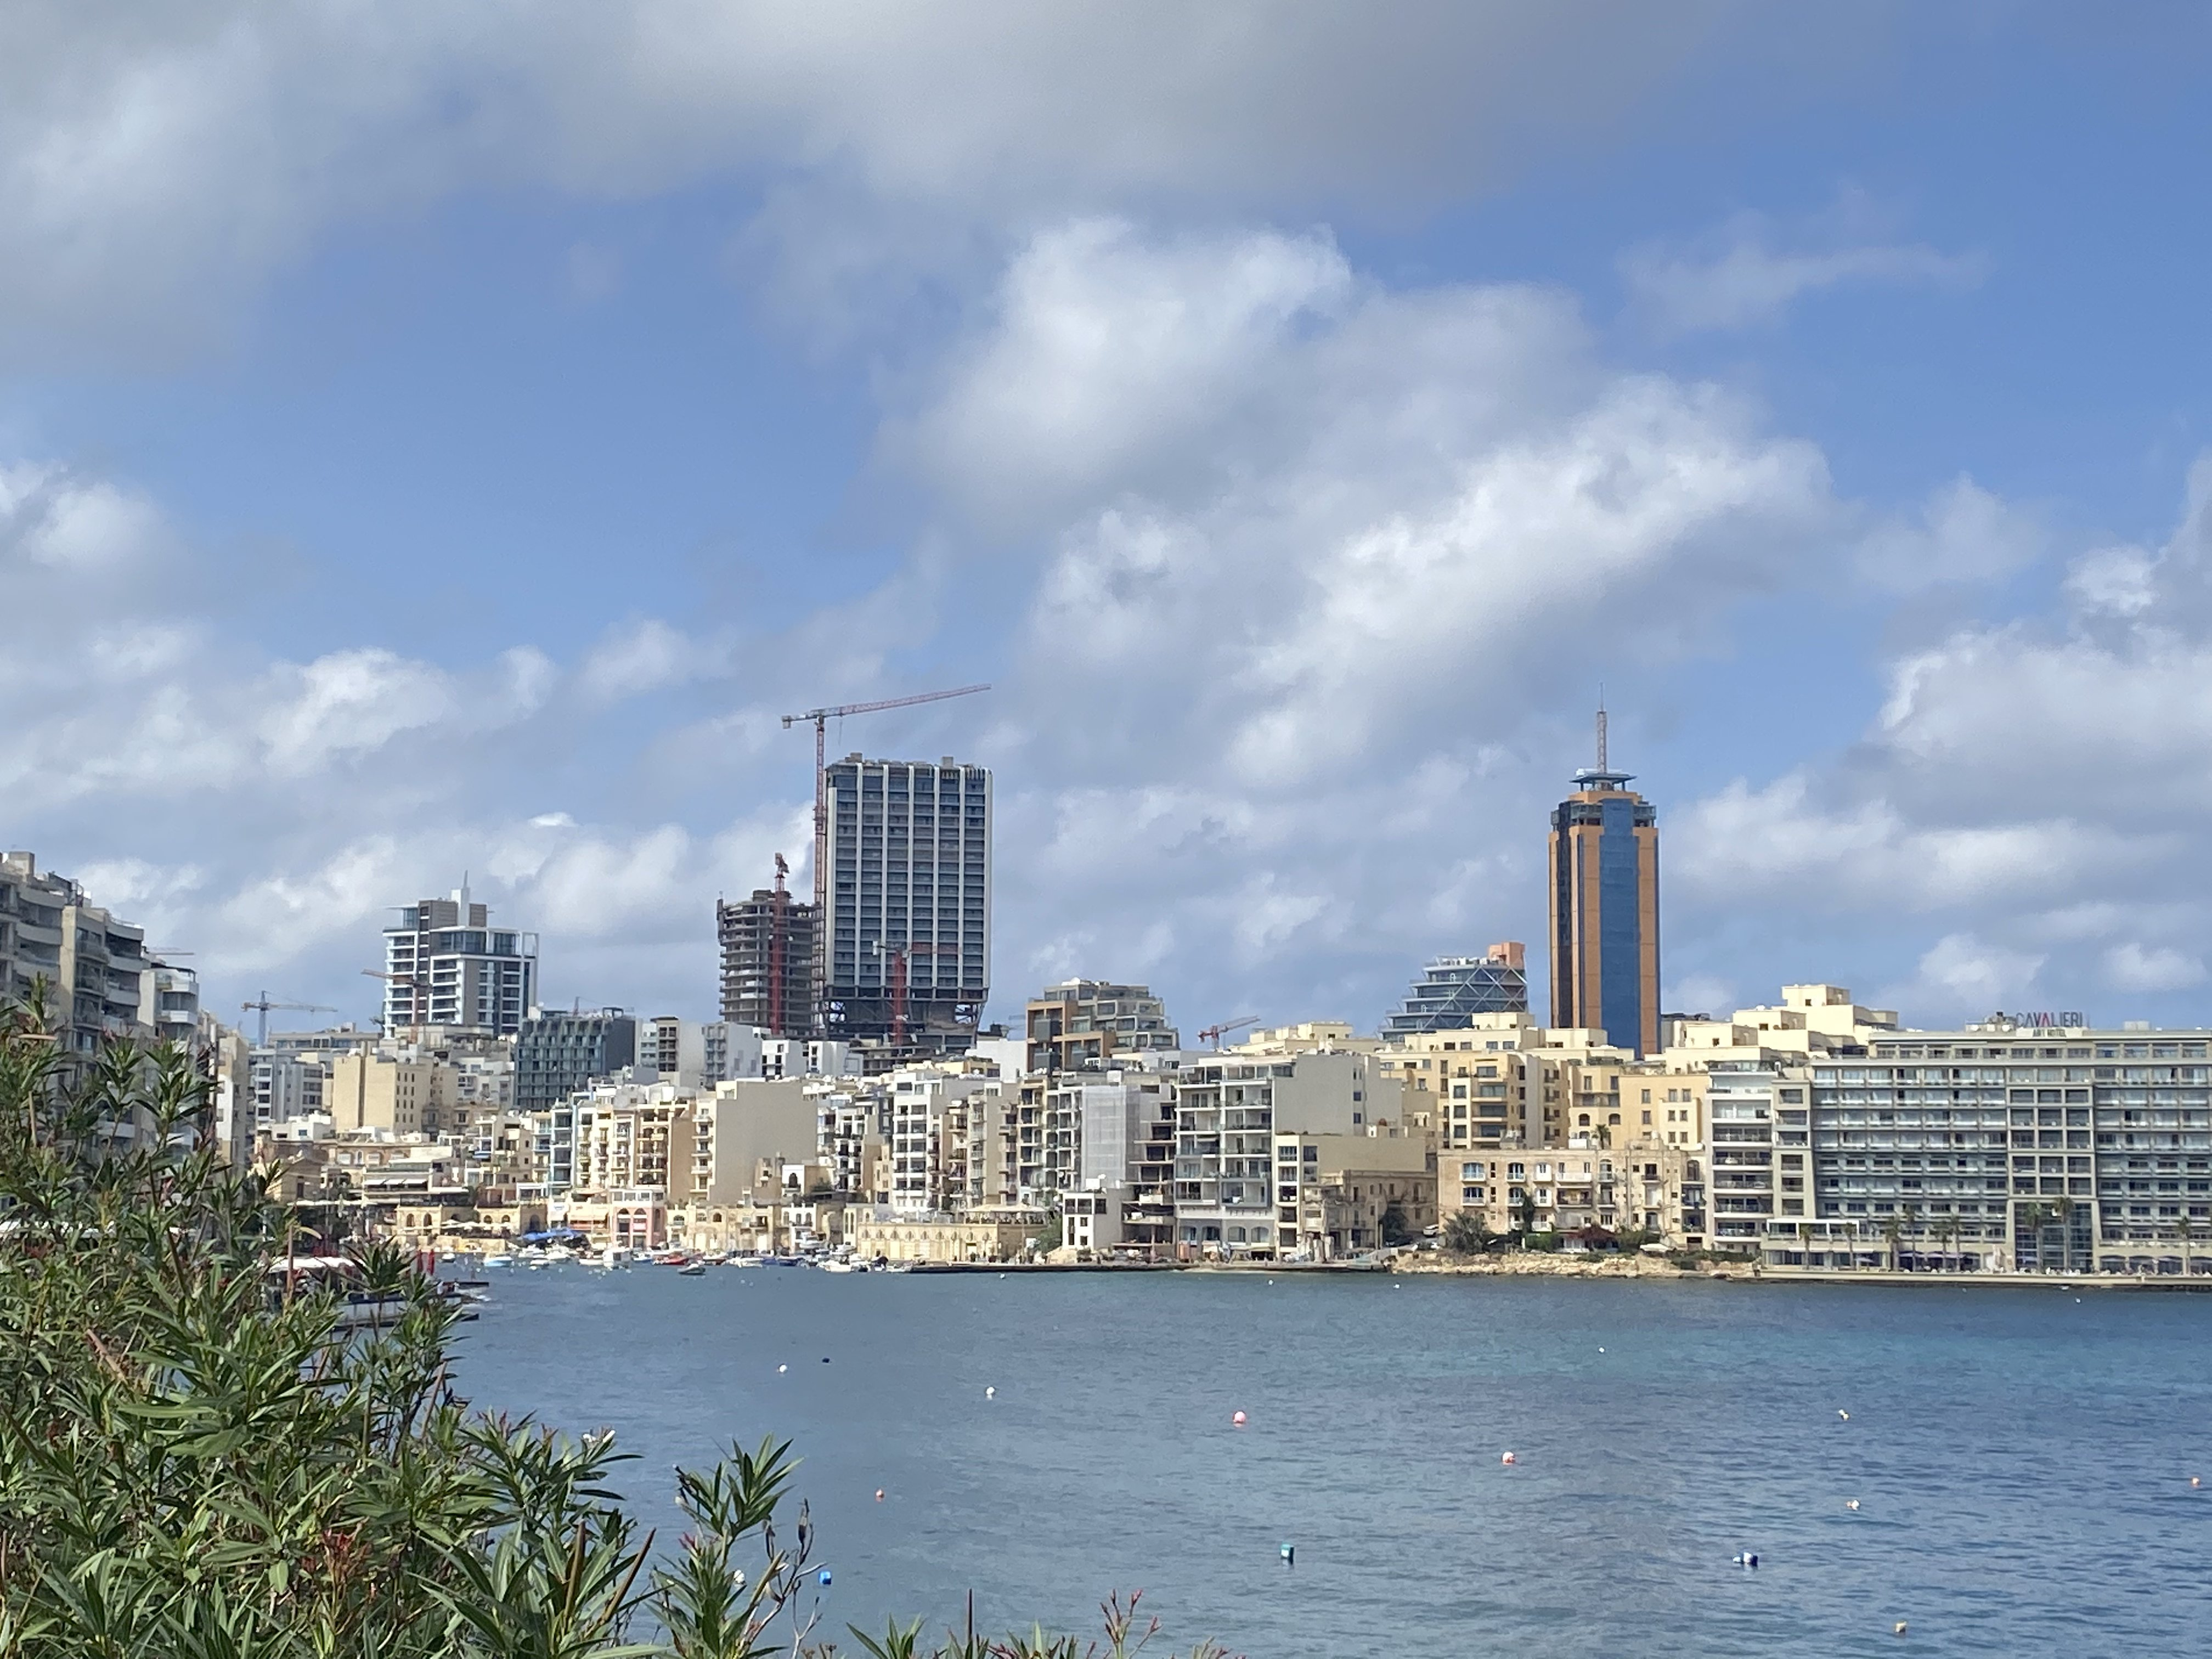crane: (745, 683, 1054, 751)
